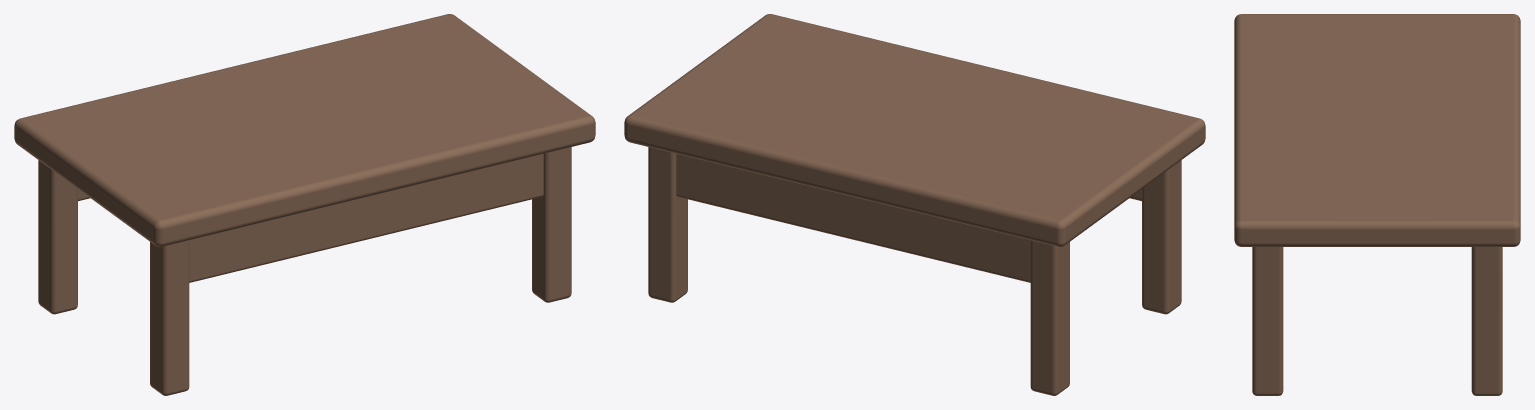
The model's file is paranormal-investigation-house-coffee-table-cfcb5a8b__26722.glb.
3 views of the same model, side by side, from view 1: azimuth 30°, elevation 25°; view 2: azimuth 150°, elevation 25°; view 3: azimuth 270°, elevation 25° (orthographic).
Parts seen in each view (by area): view 1: coffee-table; view 2: coffee-table; view 3: coffee-table.
Part boxes in pixels (x1,y1,x2,y2): coffee-table: [14, 14, 595, 395]; coffee-table: [624, 14, 1205, 395]; coffee-table: [1234, 14, 1520, 395].
Size of the model in its own units: 1.05 by 0.4199 by 0.6001.
